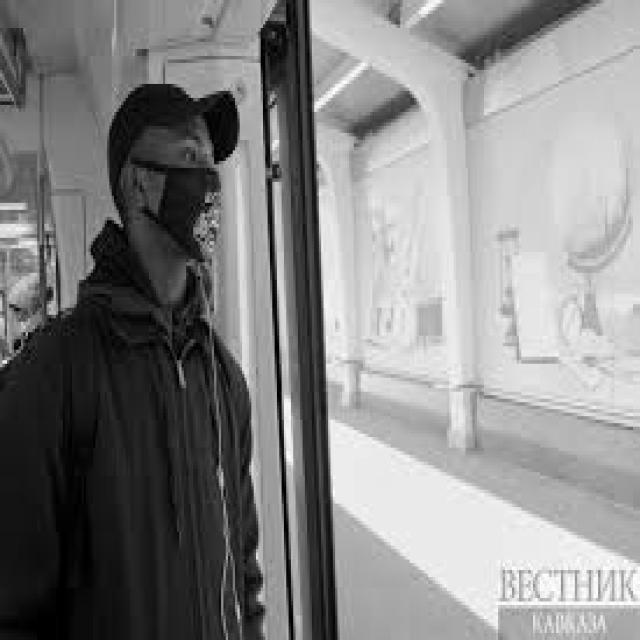with_mask: (137, 161, 221, 262)
